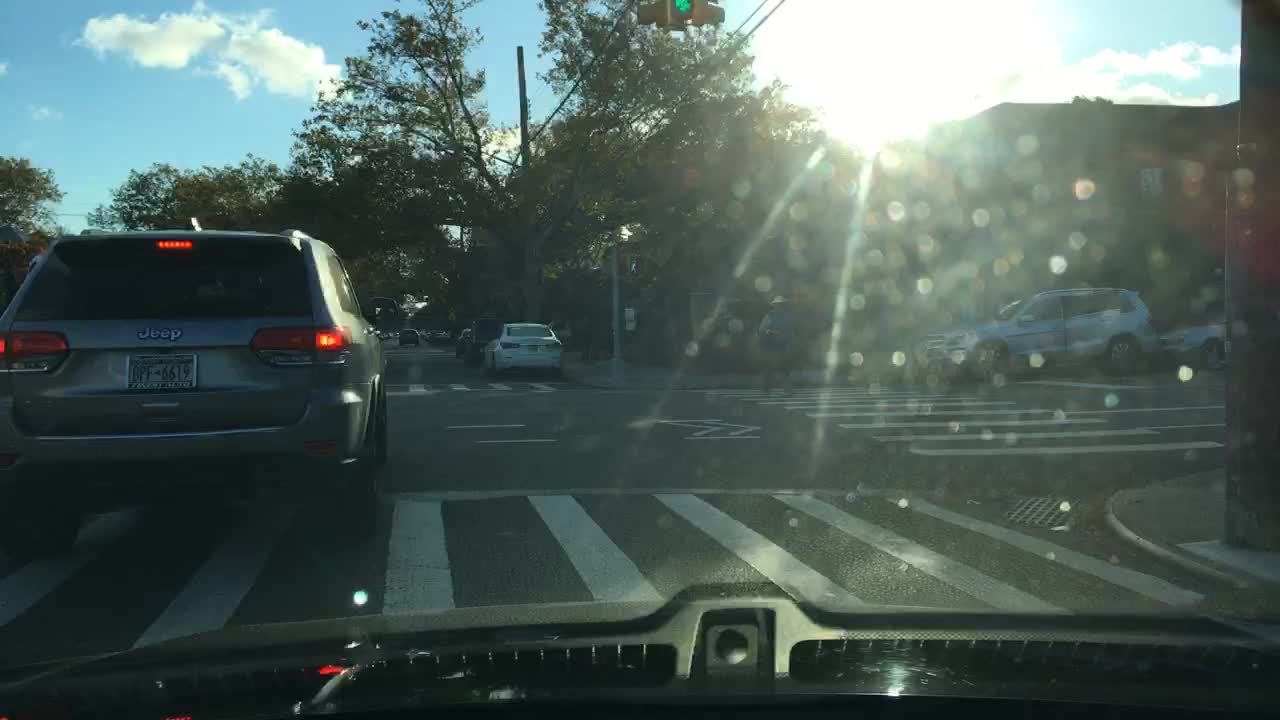car: (0, 212, 391, 539), (964, 284, 1157, 385), (922, 296, 1035, 383), (482, 319, 565, 379), (1160, 327, 1226, 364), (453, 324, 493, 362), (397, 329, 420, 347), (371, 329, 390, 339), (388, 329, 402, 340), (421, 326, 430, 336)
person: (759, 292, 798, 395)
traffic light: (662, 0, 692, 35), (694, 0, 725, 31), (631, 0, 661, 32)
